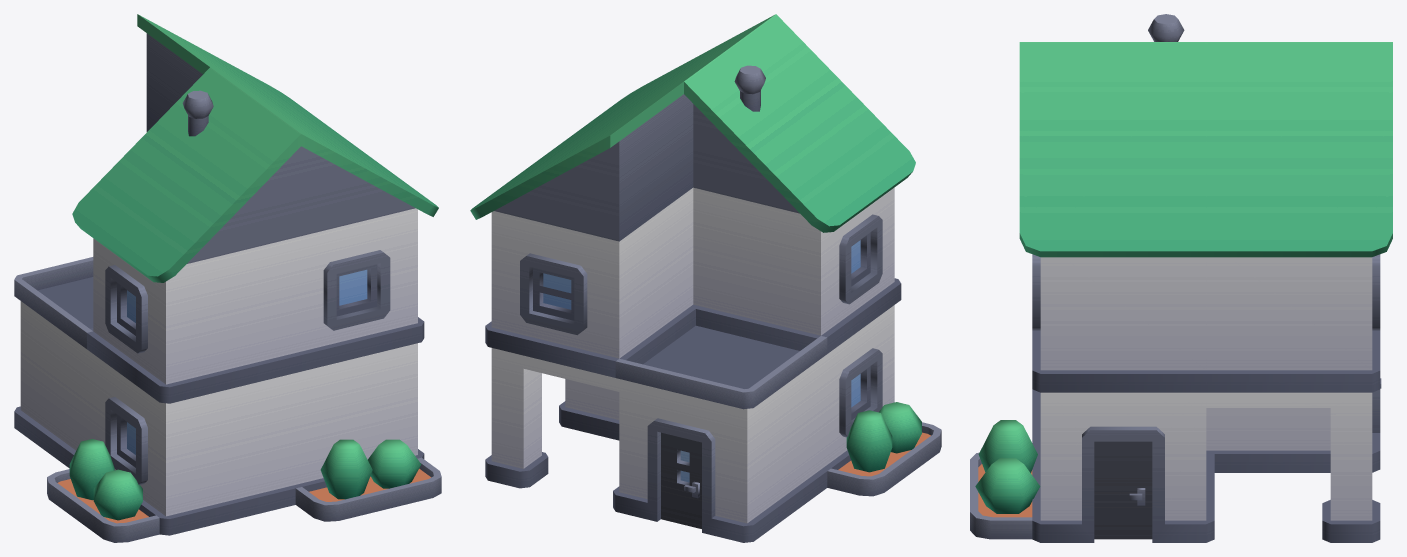
File: building-type-r.glb
The picture shows the model from 3 angles, left to right: view 1: azimuth 30°, elevation 25°; view 2: azimuth 150°, elevation 25°; view 3: azimuth 270°, elevation 25°; orthographic projection. The views are drawn at different scales.
Visible parts, largest first — view 1: building-type-r; view 2: building-type-r; view 3: building-type-r.
Part boxes in pixels (x1,y1,x2,y2): building-type-r: [14, 14, 441, 542]; building-type-r: [470, 14, 941, 542]; building-type-r: [970, 14, 1392, 542].
Size of the model in its own units: 1.03 by 1.14 by 1.02.
1 material, 1 textured.
